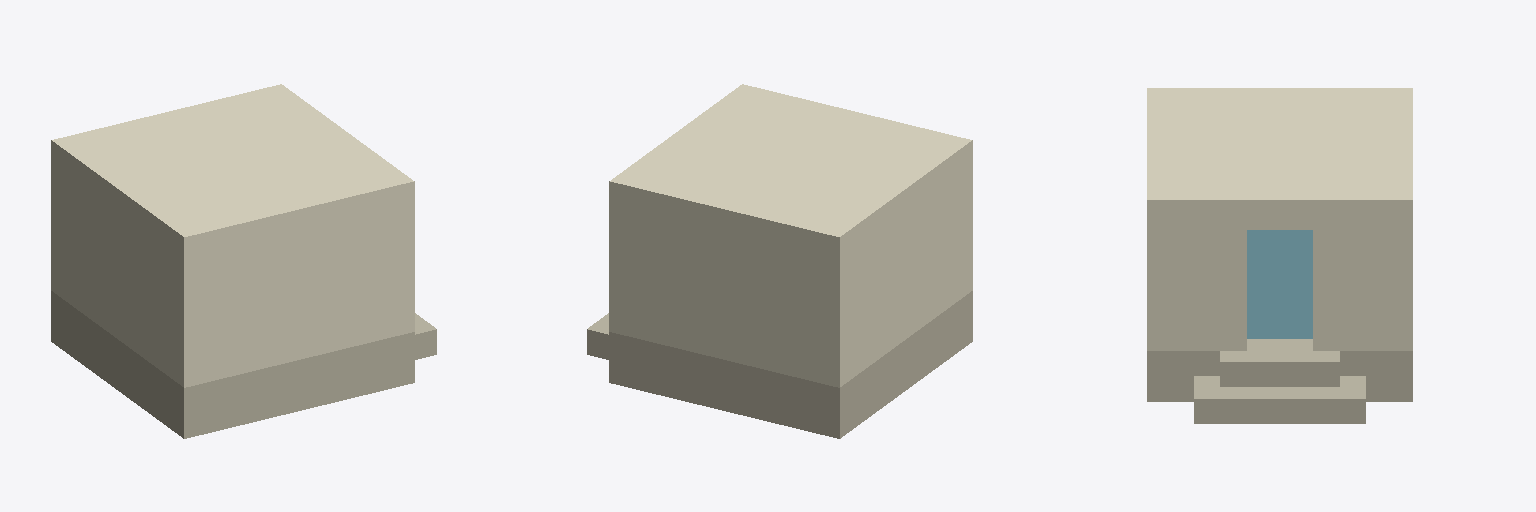
Rendered from building_025.obj.
3 renders of one model, left to right at view 1: azimuth 30°, elevation 25°; view 2: azimuth 150°, elevation 25°; view 3: azimuth 270°, elevation 25°, orthographic.
Visible parts, largest first — view 1: building_025; view 2: building_025; view 3: building_025.
Boxes of the visible parts, x1=… form: building_025: x1=51, y1=84, x2=436, y2=438; building_025: x1=587, y1=84, x2=972, y2=438; building_025: x1=1147, y1=88, x2=1412, y2=423.
Bounding box in the file's own units: 1.2 × 0.8375 × 1.